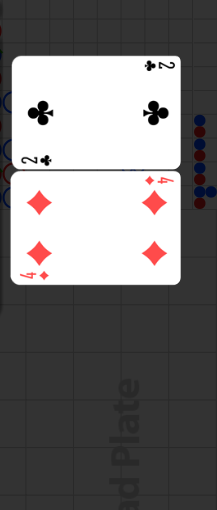2C: (142, 59, 176, 73)
4D: (19, 269, 51, 282)
